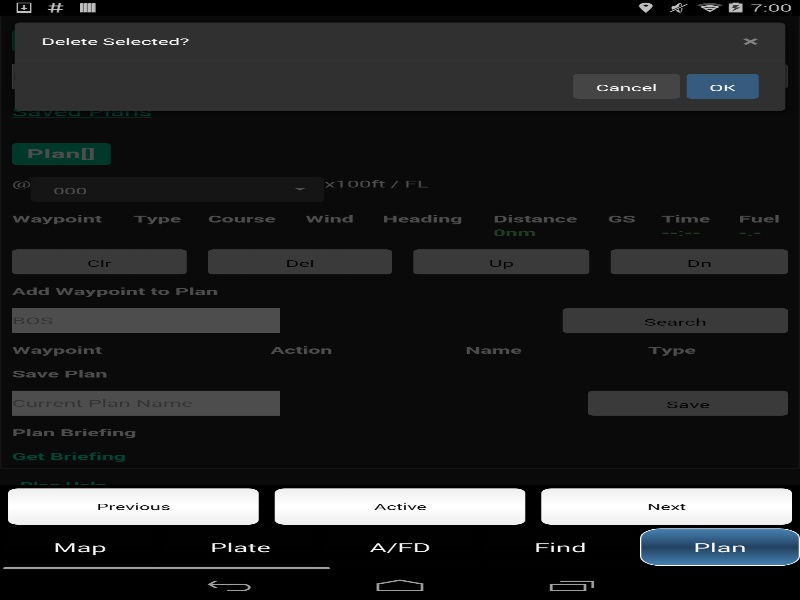Button: (6, 487, 260, 525), (273, 487, 526, 525), (540, 487, 793, 525), (30, 176, 325, 201), (562, 308, 788, 333), (568, 63, 788, 88), (588, 390, 788, 415), (208, 249, 392, 274), (610, 249, 788, 274), (413, 249, 589, 274), (12, 249, 186, 274), (573, 51, 681, 76), (686, 51, 760, 76)
Input: (12, 63, 280, 88), (12, 308, 280, 333), (12, 376, 280, 401)
